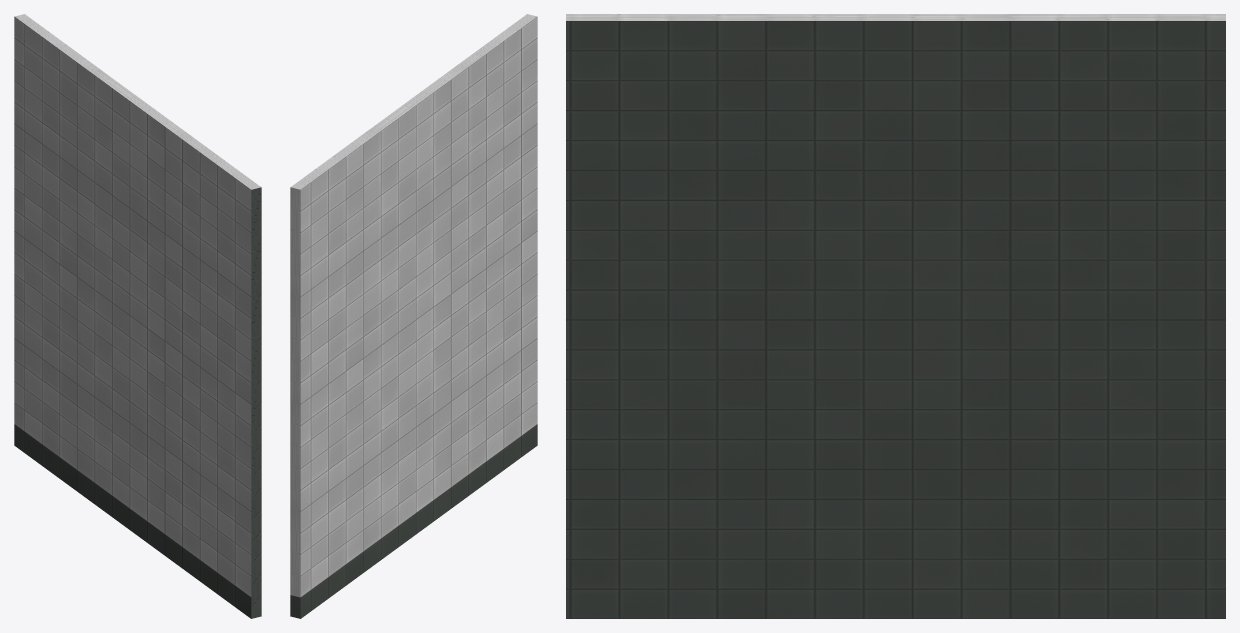
Rendered from wall small.fbx.
3 views of the same model, side by side, from view 1: azimuth 30°, elevation 25°; view 2: azimuth 150°, elevation 25°; view 3: azimuth 270°, elevation 25° (orthographic). The views are drawn at different scales.
Visible parts, largest first — view 1: wall main.small; view 2: wall main.small; view 3: wall main.small.
Part boxes in pixels (left/top/right/bottom): wall main.small: left=14, top=14, right=261, bottom=618; wall main.small: left=290, top=14, right=537, bottom=618; wall main.small: left=566, top=14, right=1225, bottom=618.
Bounding box in the file's own units: 10 × 400 × 400.
